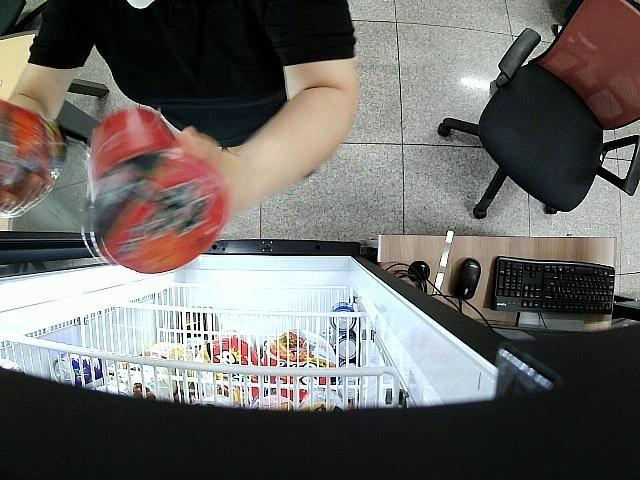02_shinRamen_S: (86, 108, 227, 274), (0, 96, 65, 198)
